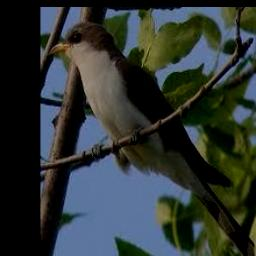Cuckoo: (49, 22, 256, 256)
